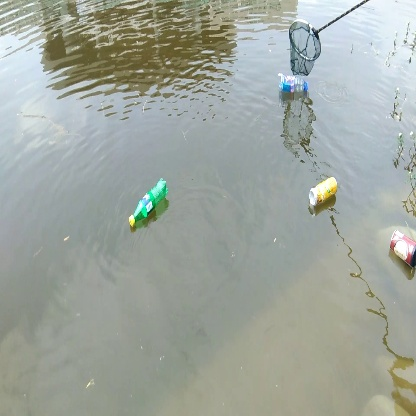bottle: (122, 176, 177, 228), (304, 175, 342, 212), (274, 70, 314, 97)
